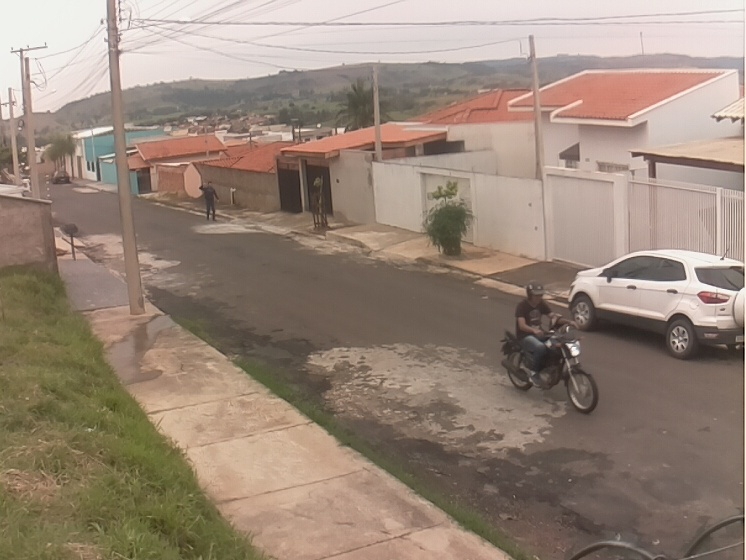person: (513, 281, 561, 389), (198, 180, 222, 223)
